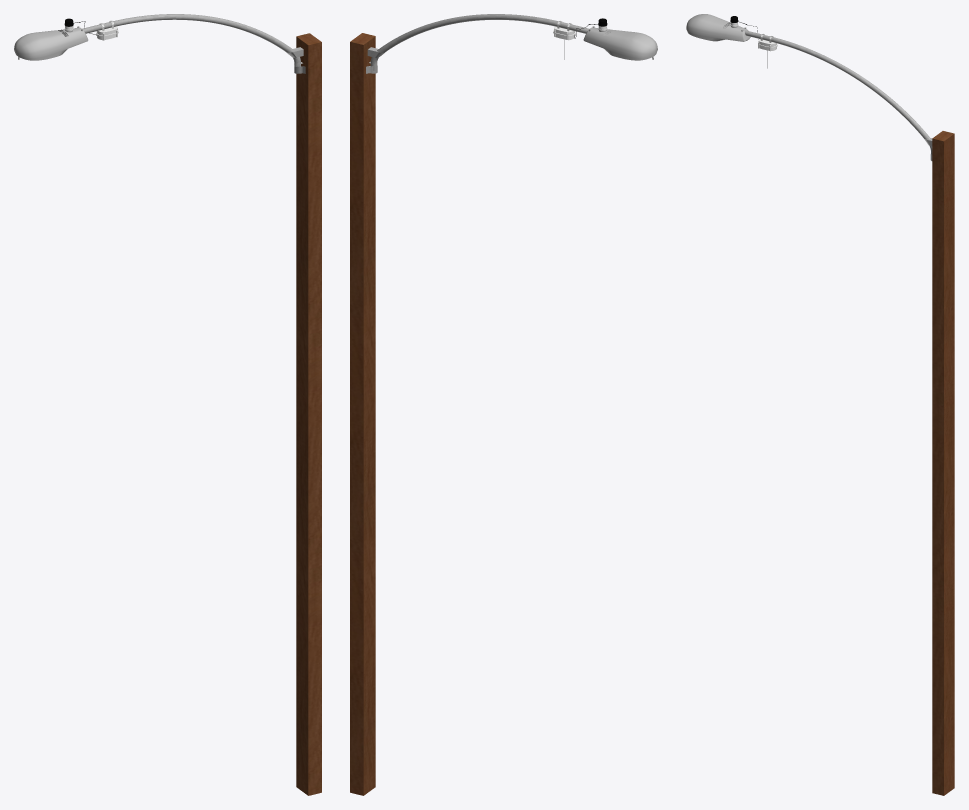
File: pole.glb
The picture shows the model from 3 angles, left to right: view 1: azimuth 30°, elevation 25°; view 2: azimuth 150°, elevation 25°; view 3: azimuth 330°, elevation 25°; orthographic projection. The views are drawn at different scales.
Parts seen in each view (by area): view 1: Material2 (×3); view 2: Material2 (×3); view 3: Material2 (×3).
Part boxes in pixels (x1,y1,x2,y2): Material2 (×3): [14, 14, 321, 795]; Material2 (×3): [350, 14, 657, 795]; Material2 (×3): [686, 14, 954, 795].
Bounding box in the file's own units: 95.87 × 254 × 10.46.
32 materials, 8 textured.
